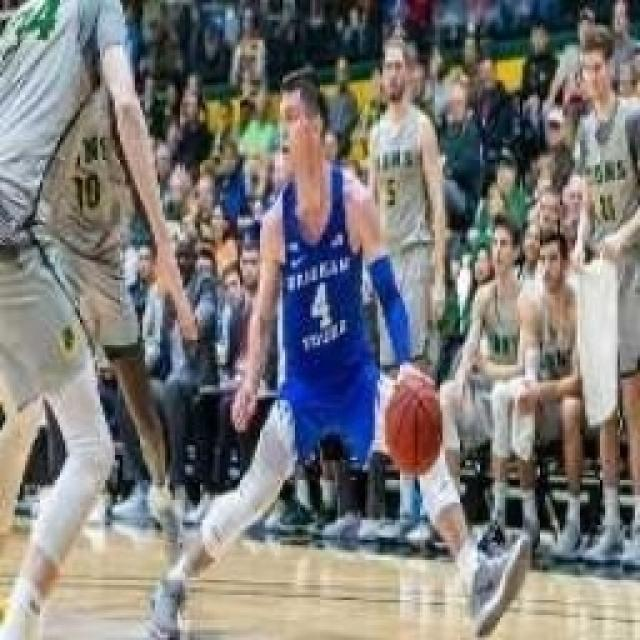rim: (383, 375, 443, 473)
